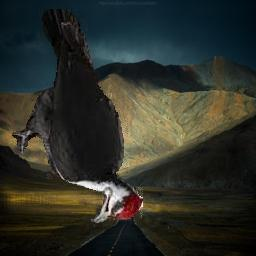Woodpecker: (9, 10, 144, 225)
